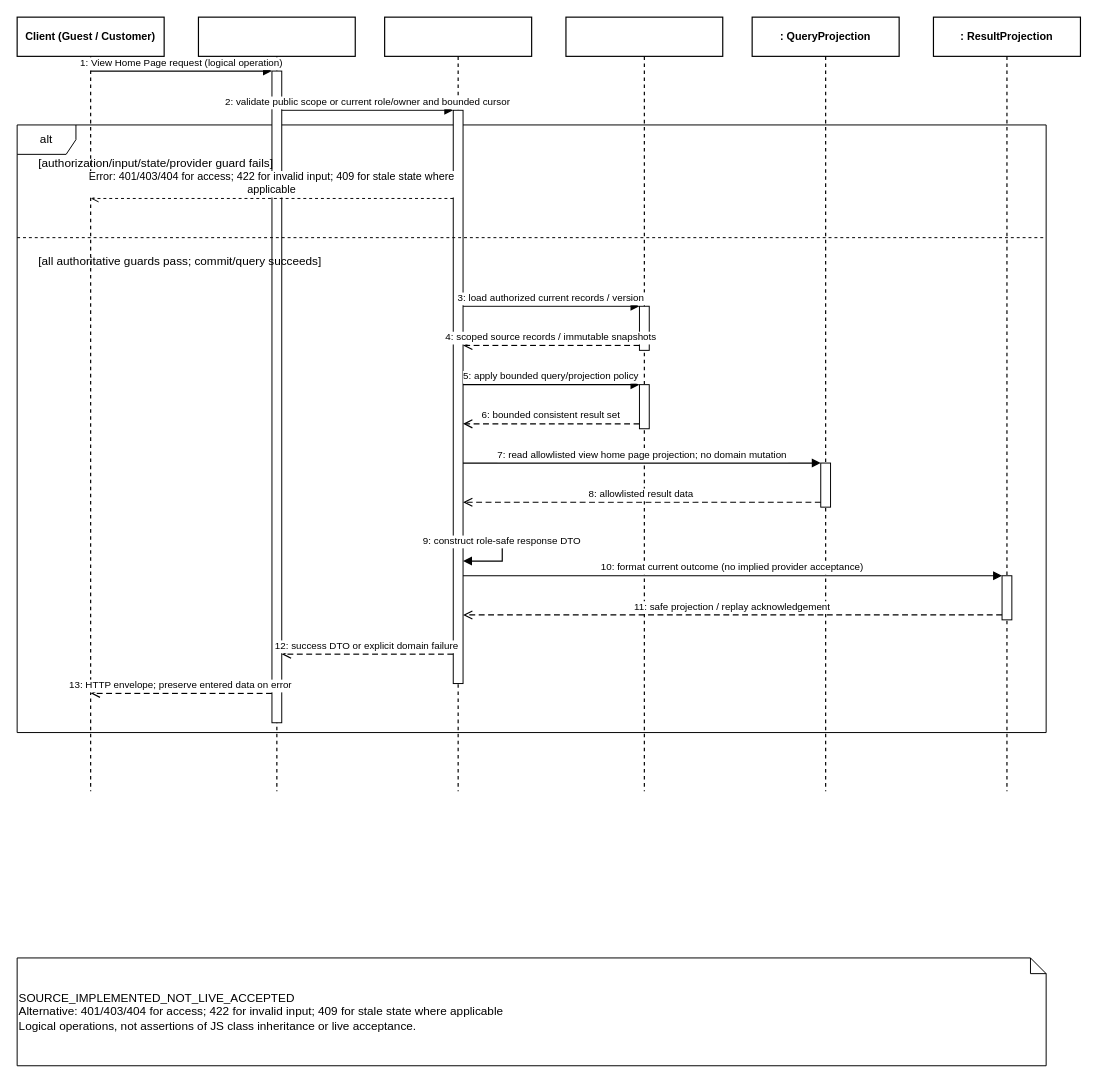
This 1099x1084 diagram has some shape labels left out. Each missing label, with the box of its shape:
: CatalogHttpBoundary: (197, 16, 355, 791)
: CatalogService: (384, 16, 532, 791)
: ReadRepository: (565, 16, 723, 791)
